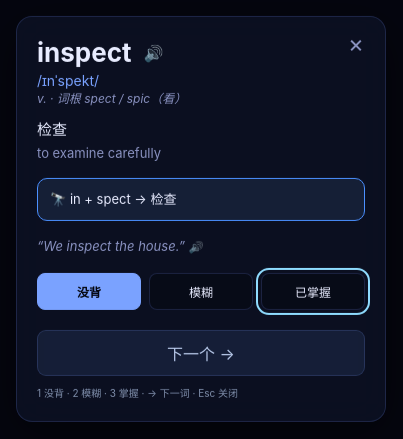
Test: 词卡导航与学习闭环 › 没有其他操作时，掌握后只走到同词根下一词
Click the button "已掌握".
click(313, 291)  # box left=261, top=273, right=365, bottom=310
Wait 600 ms
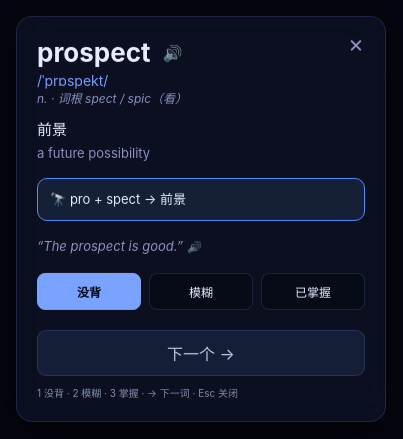
Now the heading "prospect 🔊" is shown, box left=37, top=37, right=186, bottom=68
